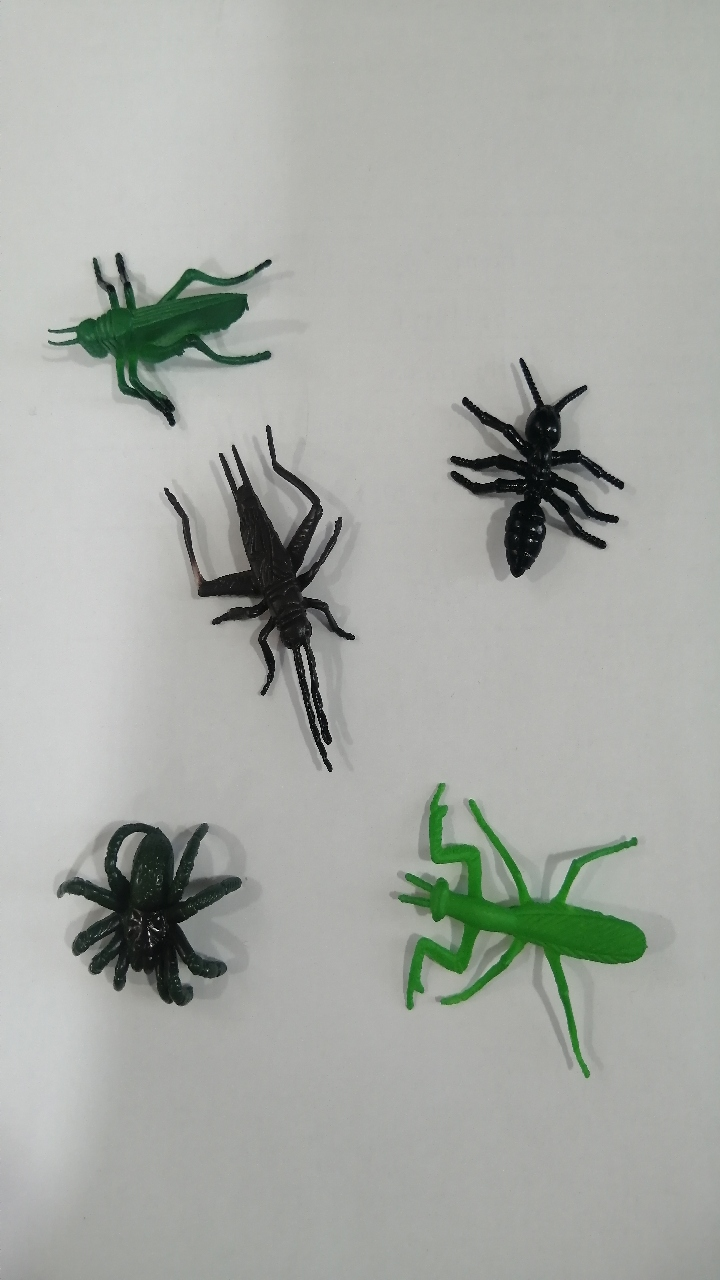intruso: (364, 772, 677, 1094), (120, 422, 384, 789), (406, 328, 638, 606), (32, 795, 268, 1031), (29, 229, 297, 432)
